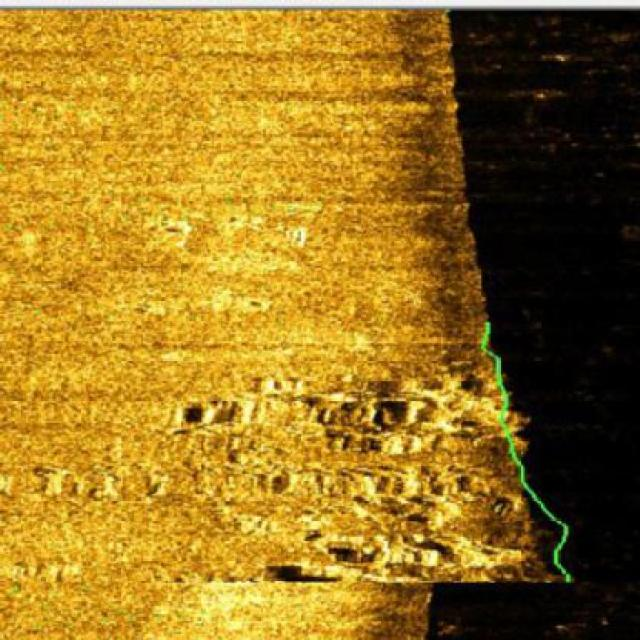bedrock group: (0, 362, 572, 585)
